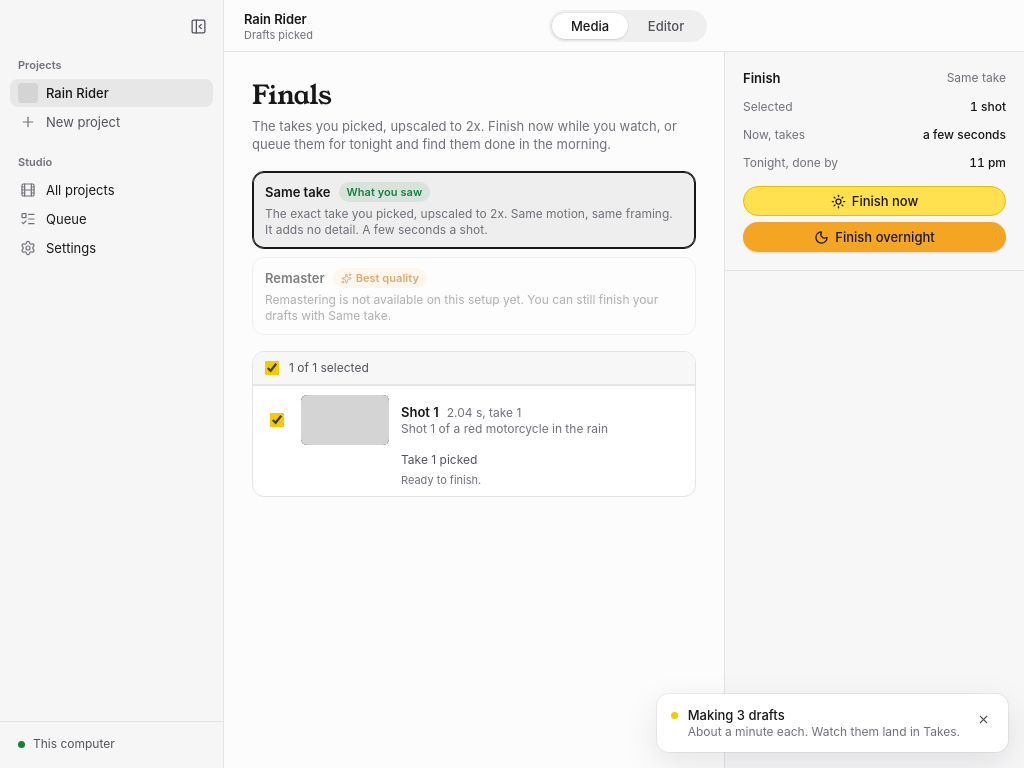
toasts and counts read as sentences › the finish toast starts with a capital: "A few seconds in all."
Click the button "Finish now" at (874,201), box [743,186,1006,216]
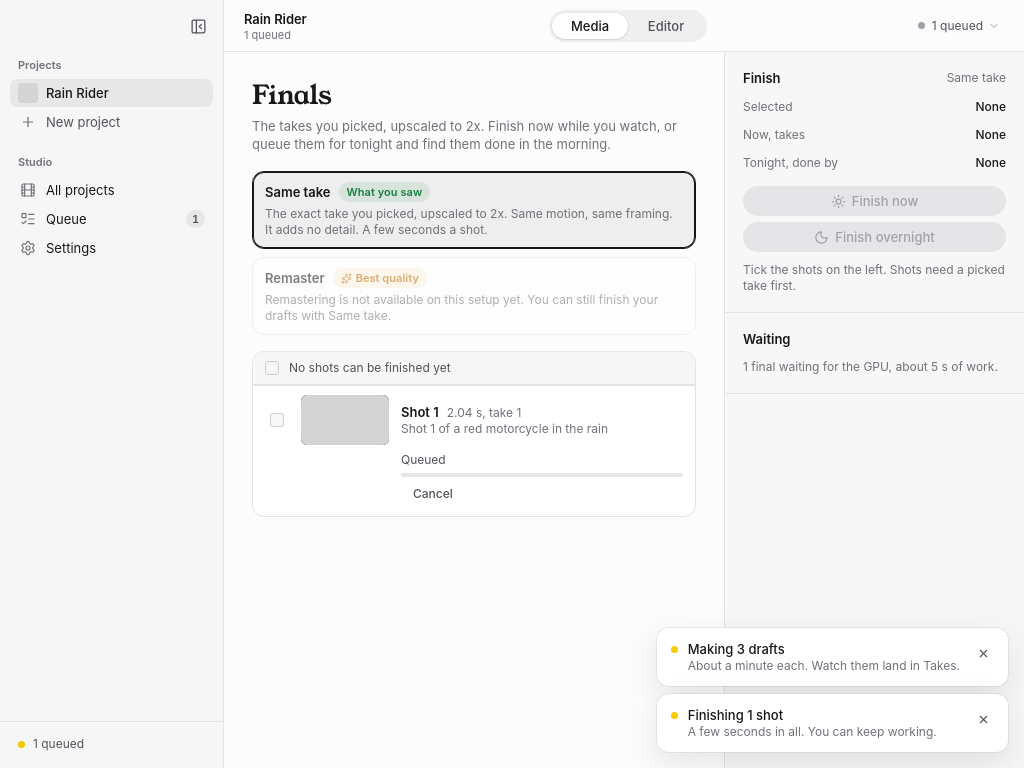
Now the text "A few seconds in all. You can keep working." is shown, box [688,724,960,740]
